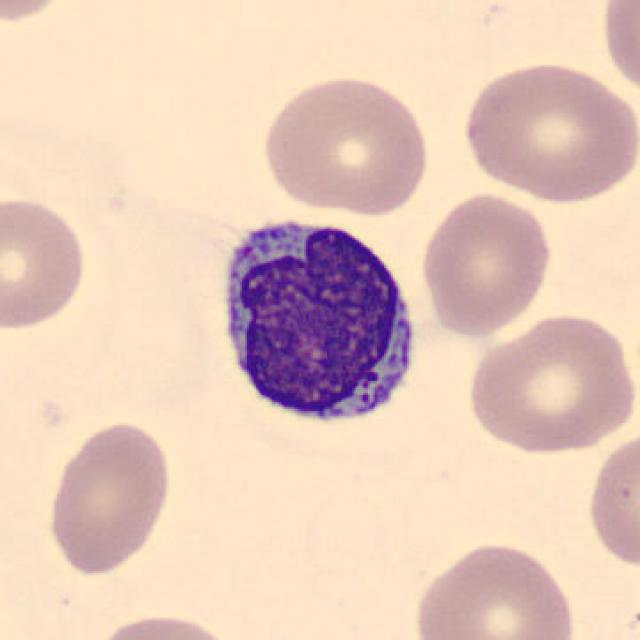Lymphocyte: (206, 203, 428, 441)
RBC: (457, 56, 638, 206), (256, 70, 434, 217), (462, 308, 636, 456), (43, 418, 176, 578), (416, 188, 556, 338), (407, 536, 580, 640), (0, 192, 91, 333), (583, 425, 640, 575), (87, 610, 244, 640), (597, 0, 639, 102), (0, 0, 78, 25)
